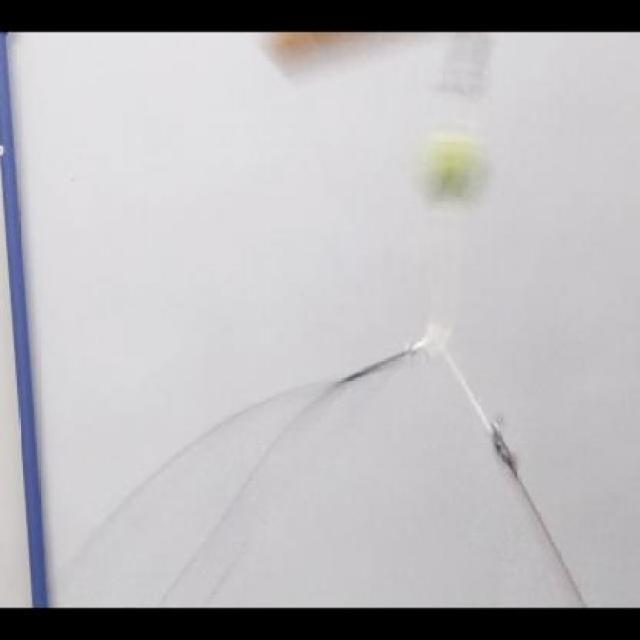baseball: (416, 131, 495, 217)
